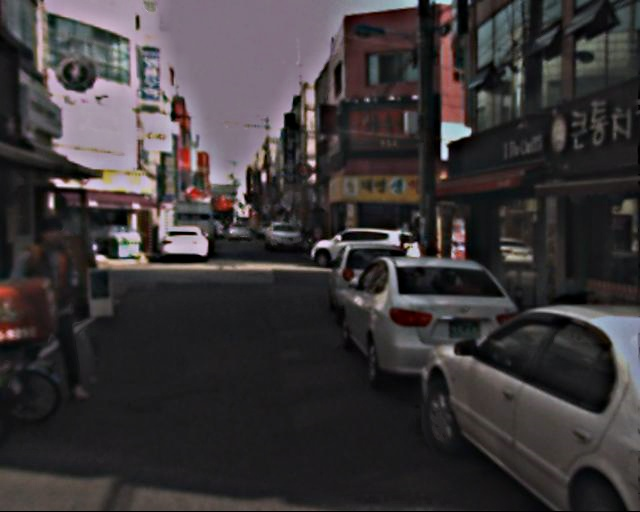person: (14, 211, 101, 398)
